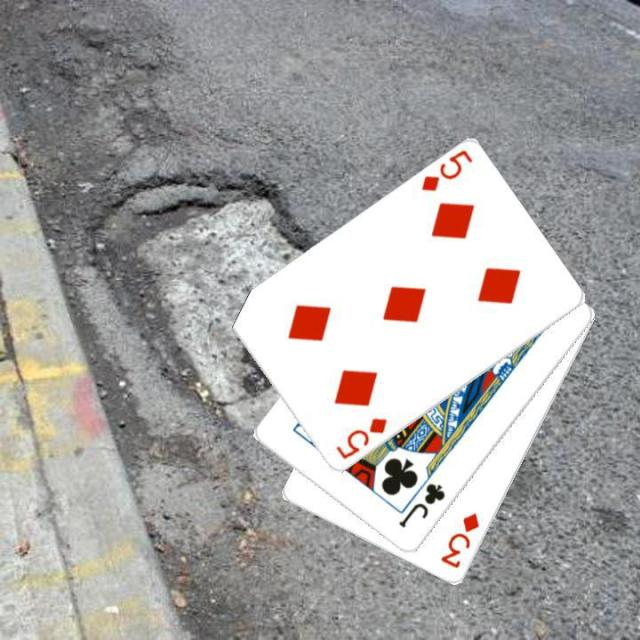3D: (436, 508, 482, 570)
5D: (417, 146, 475, 194), (332, 414, 389, 462)
JC: (395, 479, 447, 531)
